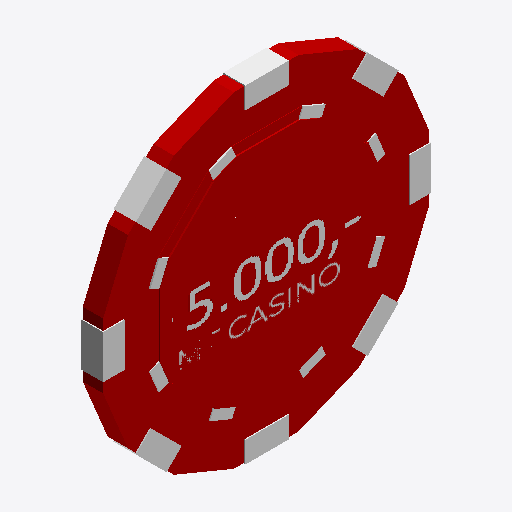
A Minecraft block model of 66 cuboids, rendered isometrically (azimuth 45°, elevation 35.3°) with the resource pack's own textures.
Visible parts, largest first — hexadecagon (×35).
Part boxes in pixels (left/top/right/bottom): hexadecagon (×35): left=81, top=37, right=430, bottom=474.
Bounding box in the file's own units: 16.1 × 16.1 × 1.2.